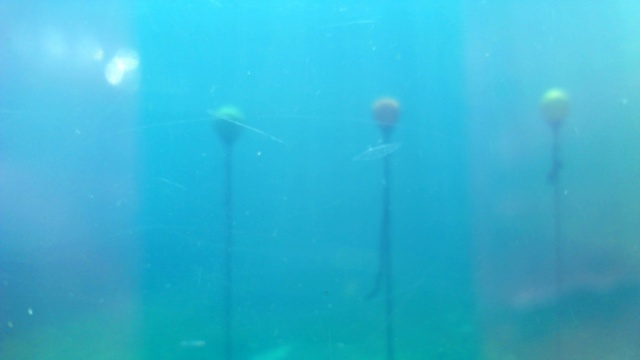buoy_green: (212, 103, 248, 146)
buoy_red: (539, 89, 569, 125), (373, 98, 400, 131)
